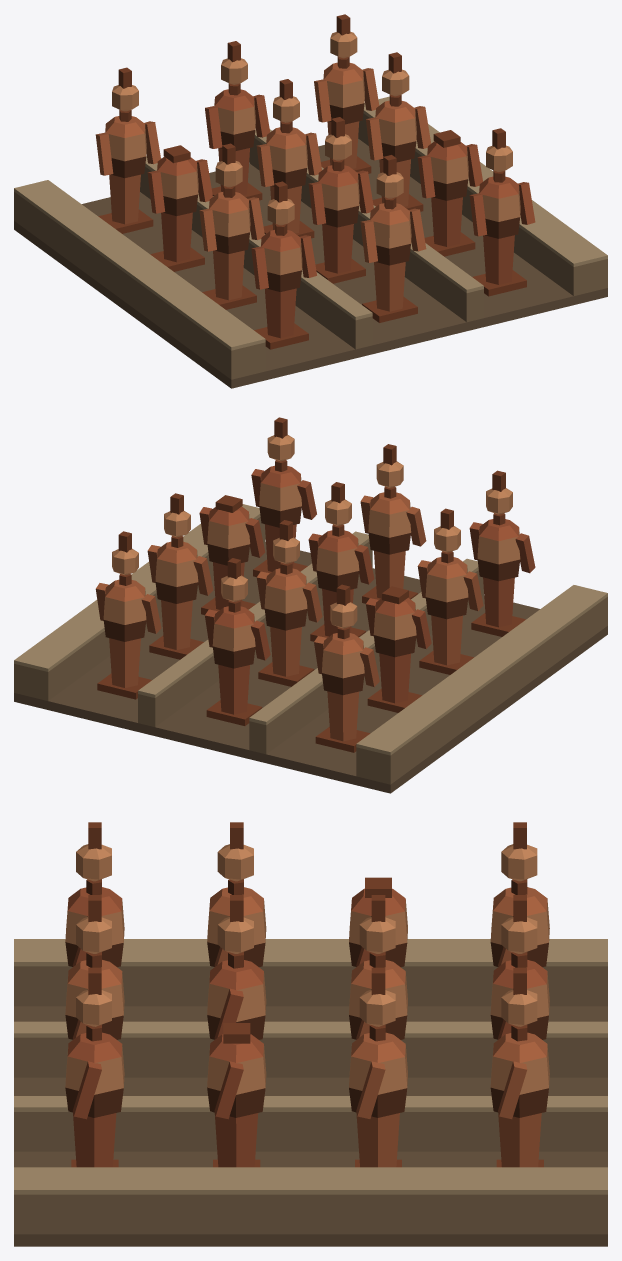
The model's file is guerriers.glb.
The picture shows the model from 3 angles, top to bottom: view 1: azimuth 30°, elevation 25°; view 2: azimuth 150°, elevation 25°; view 3: azimuth 270°, elevation 25°; orthographic projection. The views are drawn at different scales.
Parts seen in each view (by area): view 1: guerriers; view 2: guerriers; view 3: guerriers.
Part boxes in pixels (x1,y1,x2,y2): guerriers: [14, 14, 607, 388]; guerriers: [14, 417, 607, 793]; guerriers: [14, 822, 607, 1246].
Size of the model in its own units: 1.76 by 0.73 by 1.76.
